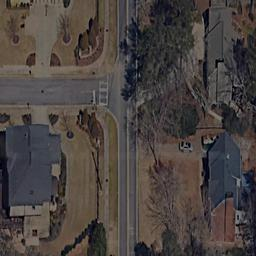Crosswalk: (98, 76, 110, 106)
Double Solid Yellow Line: (127, 1, 130, 254)
Stop Line: (93, 90, 97, 106)
